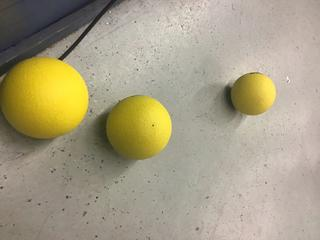power_cell: (108, 94, 170, 161), (231, 73, 279, 112)
